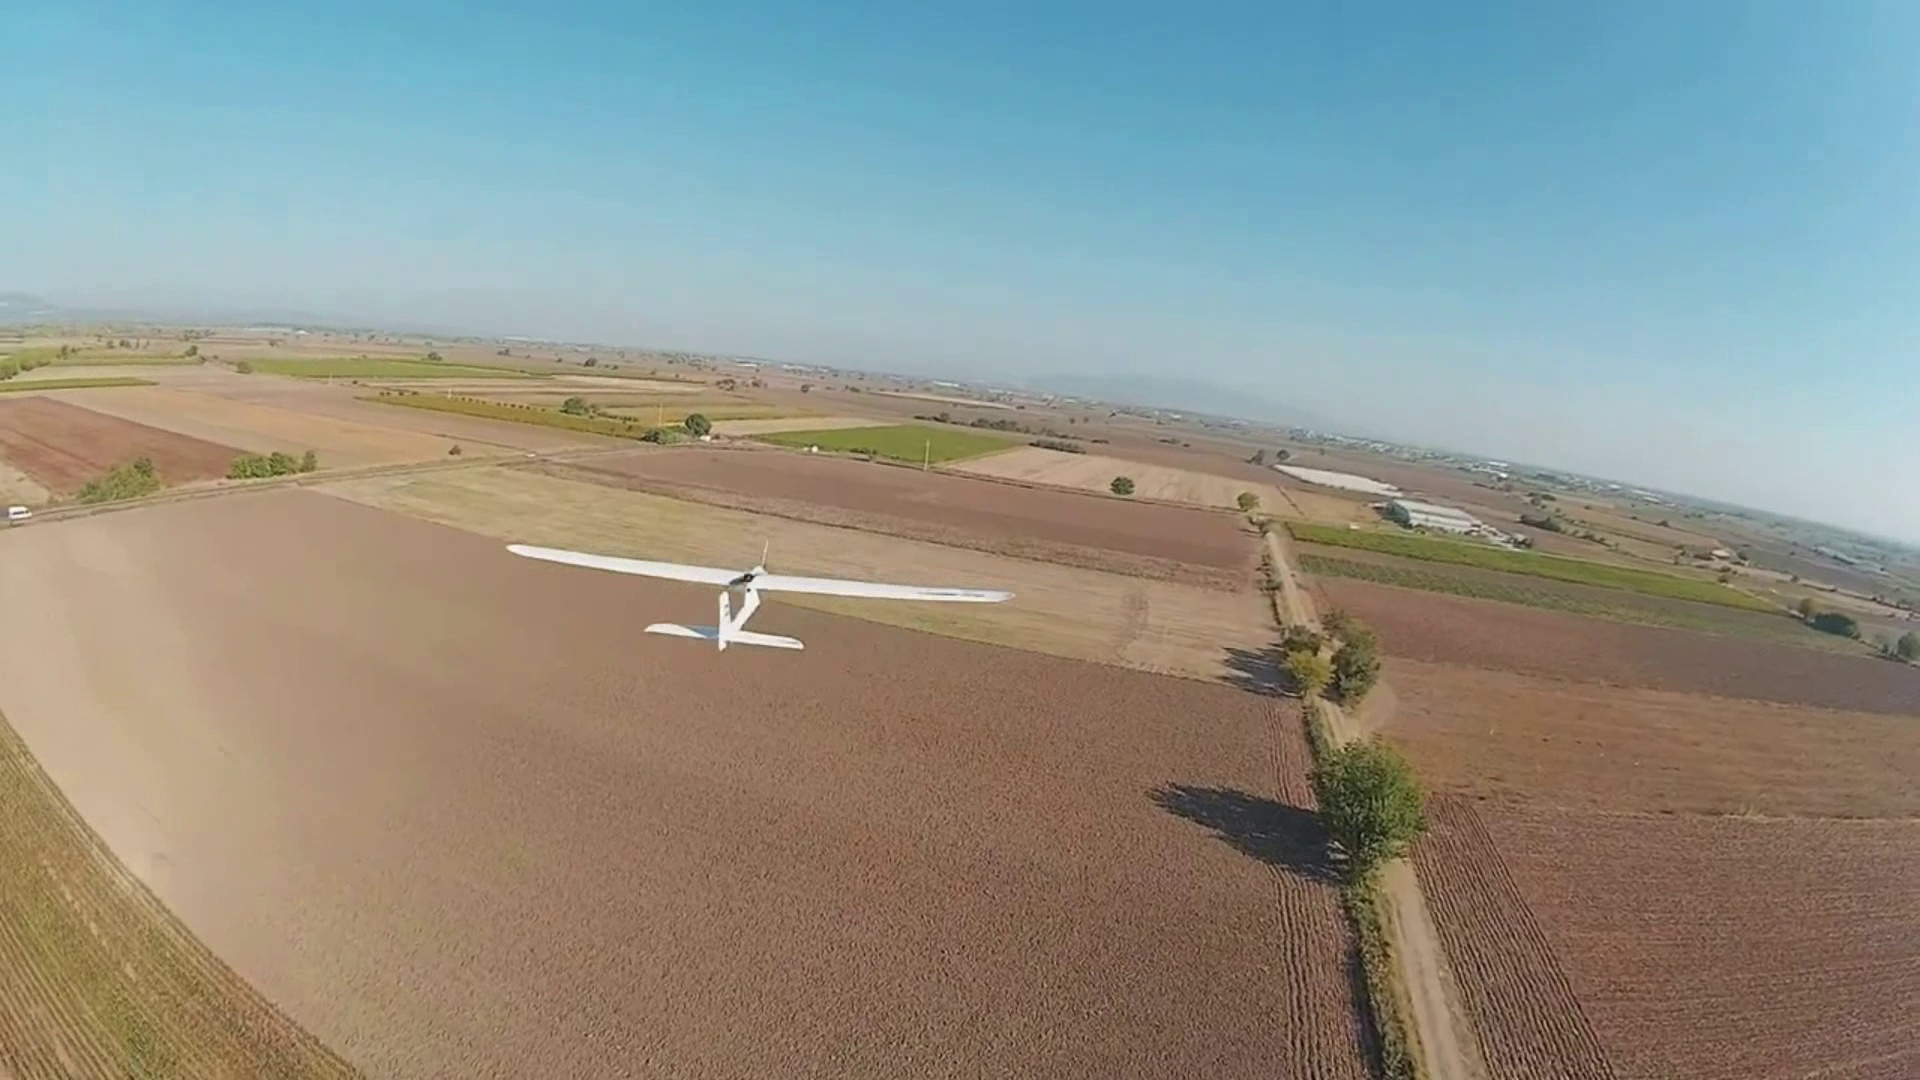airplane: (504, 542, 1011, 653)
